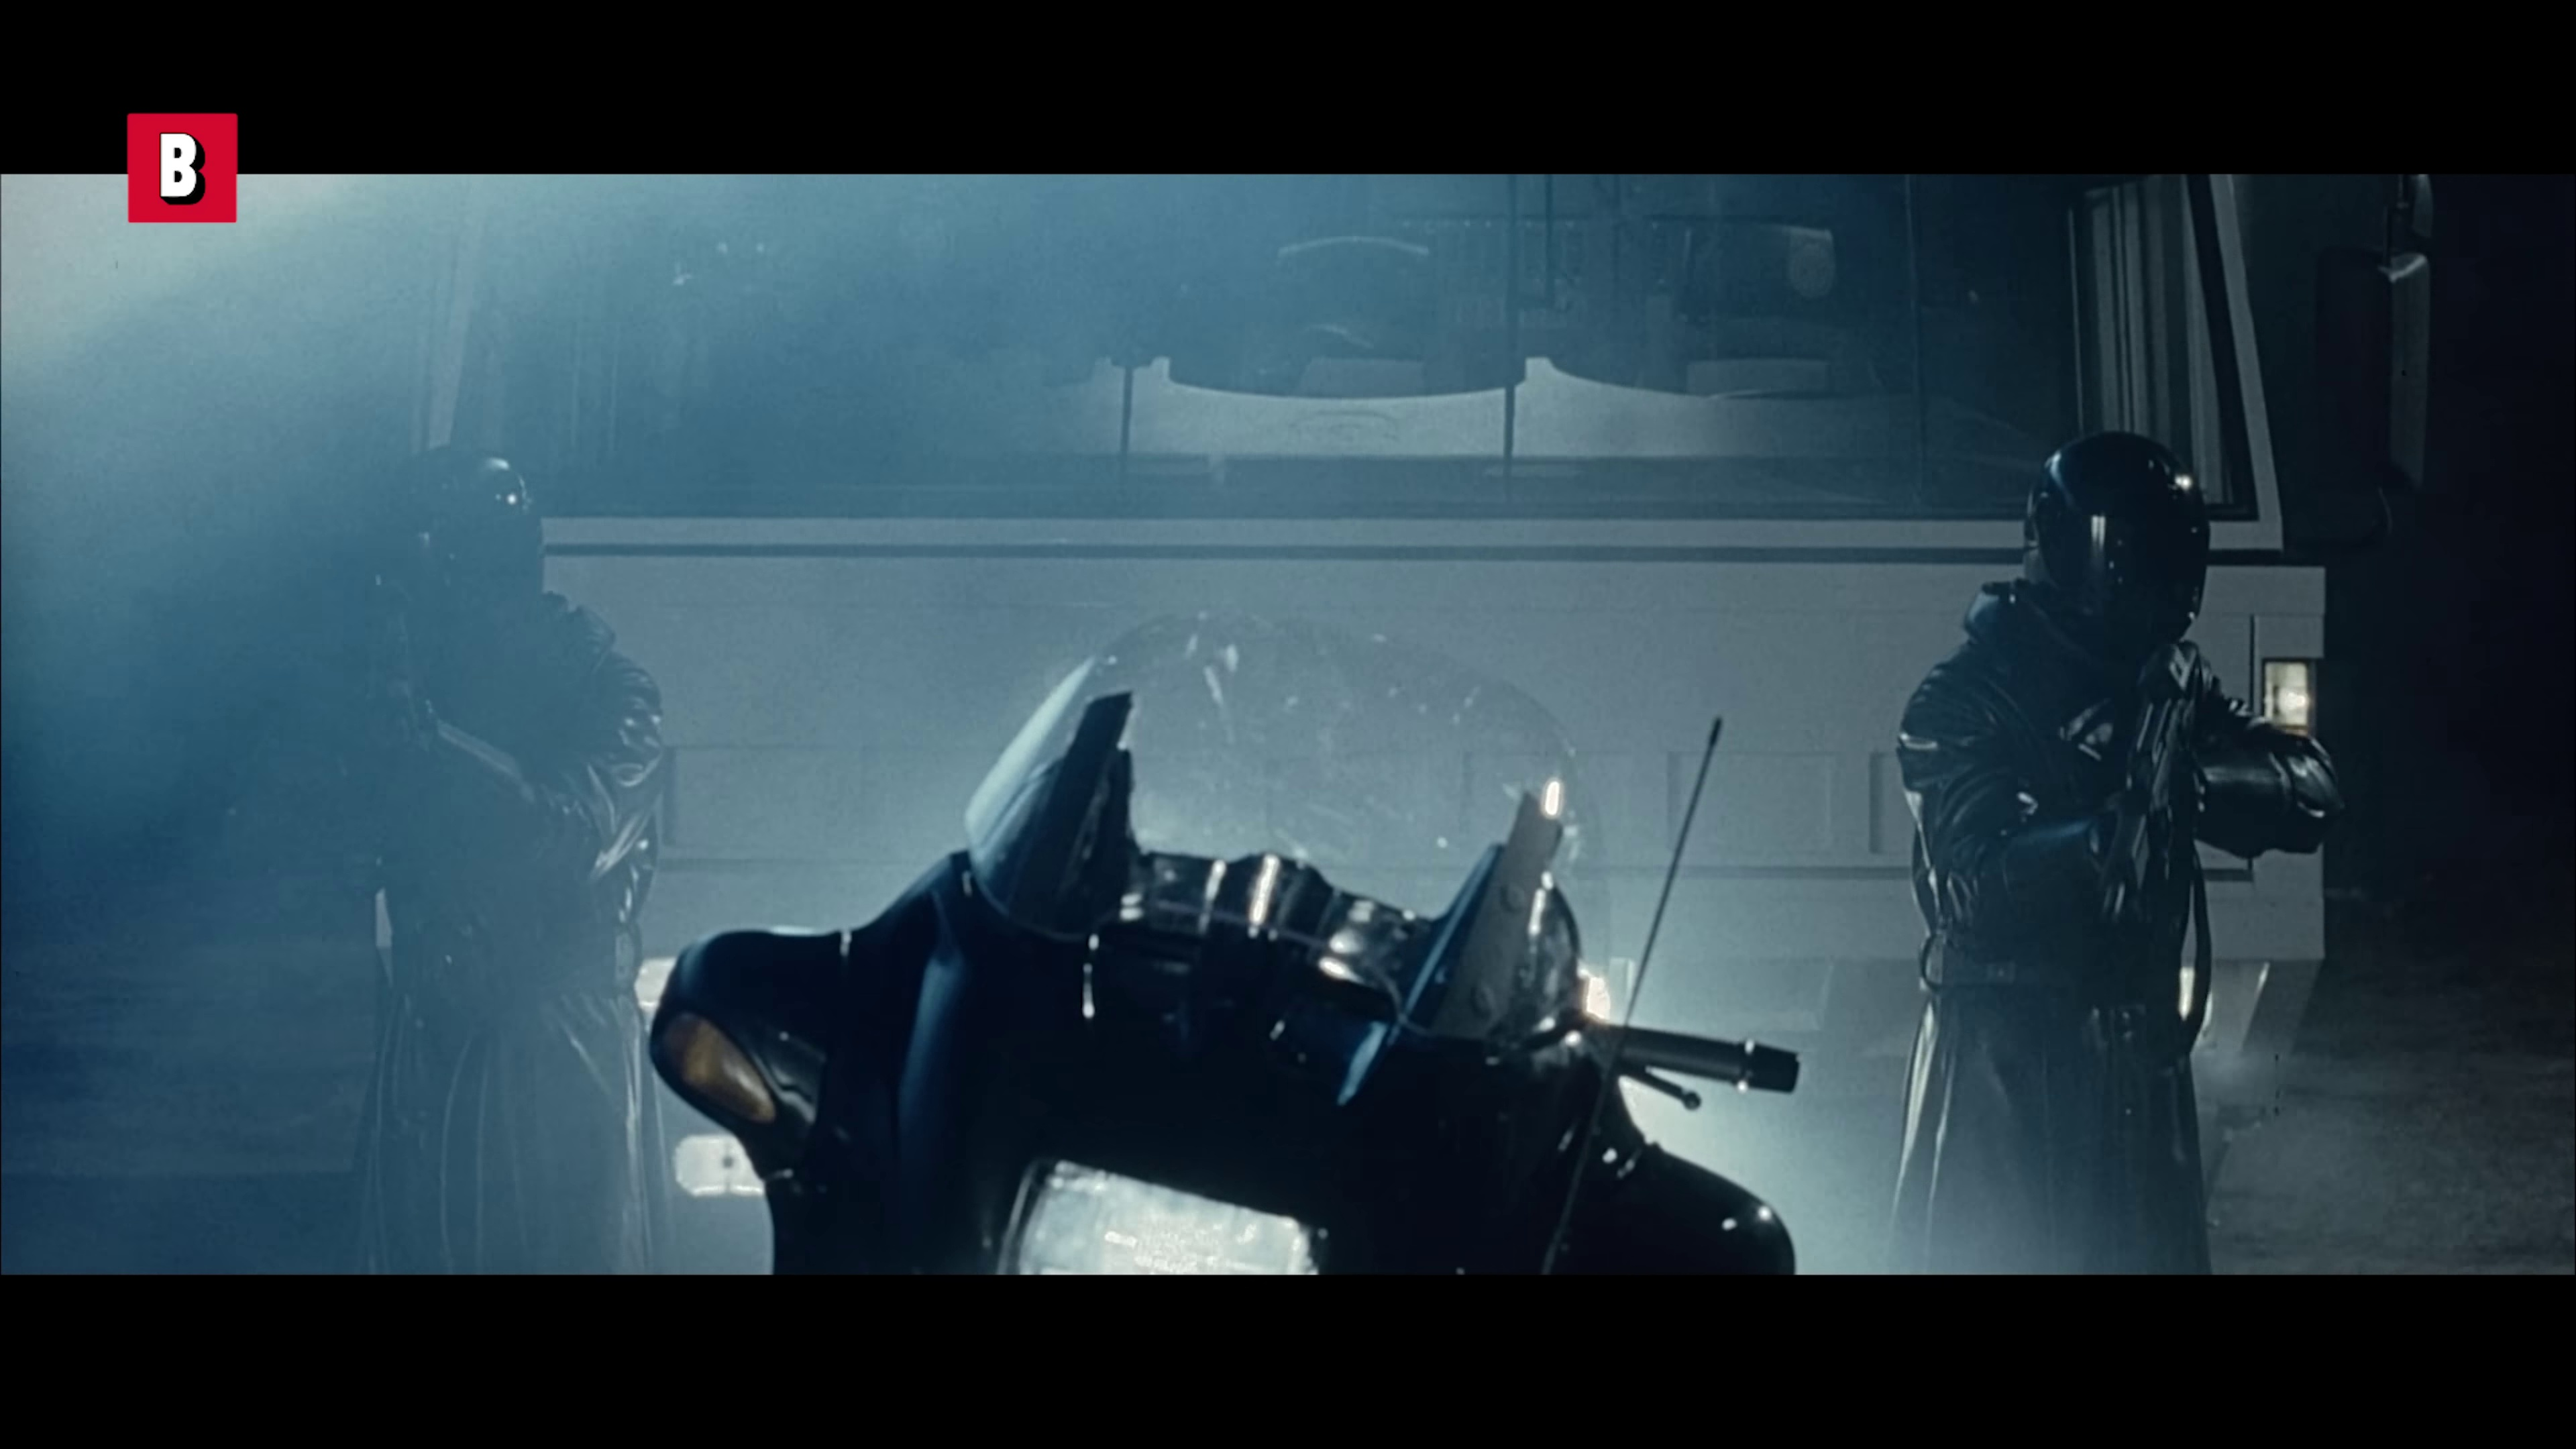gun: (2075, 617, 2233, 945)
p_w_gun: (1882, 423, 2348, 1277)
p_wo_gun_acting_like_shooting: (265, 430, 679, 1284)
